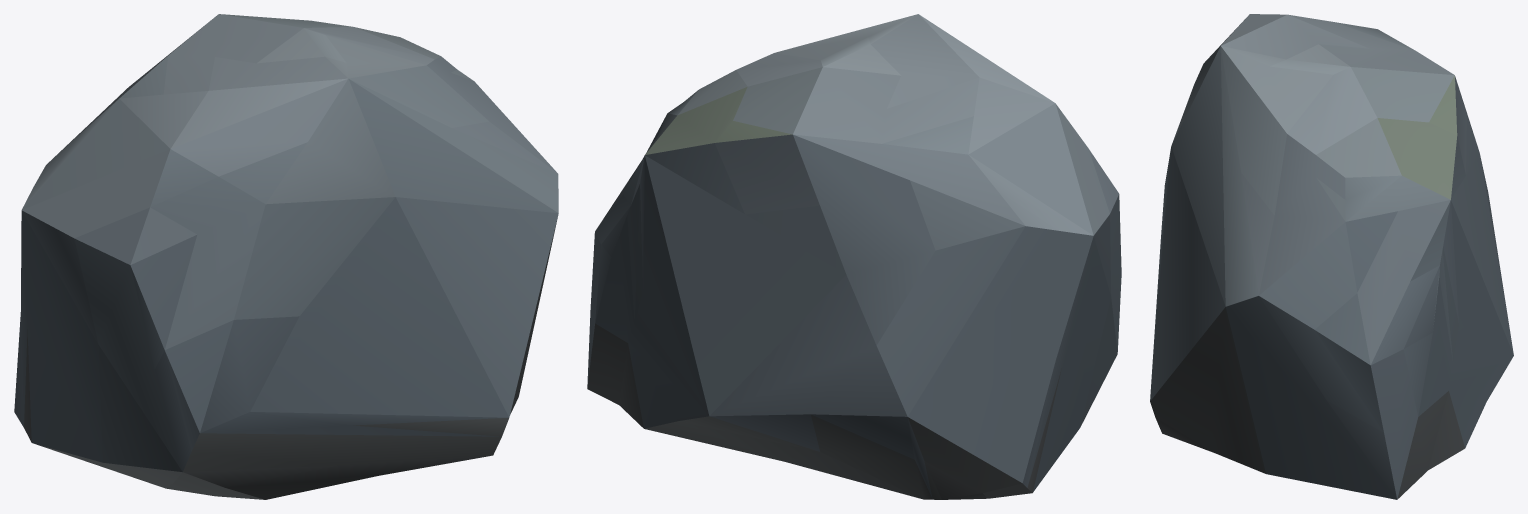
Rendered from boulder_b.glb.
The picture shows the model from 3 angles, left to right: view 1: azimuth 30°, elevation 25°; view 2: azimuth 150°, elevation 25°; view 3: azimuth 270°, elevation 25°; orthographic projection. The views are drawn at different scales.
Visible parts, largest first — view 1: boulder_b; view 2: boulder_b; view 3: boulder_b.
Boxes of the visible parts, x1,y1,x2,y2 form: boulder_b: [14, 14, 558, 499]; boulder_b: [587, 14, 1121, 499]; boulder_b: [1150, 14, 1513, 499].
Size of the model in its own units: 4.11 by 2.97 by 2.82.
